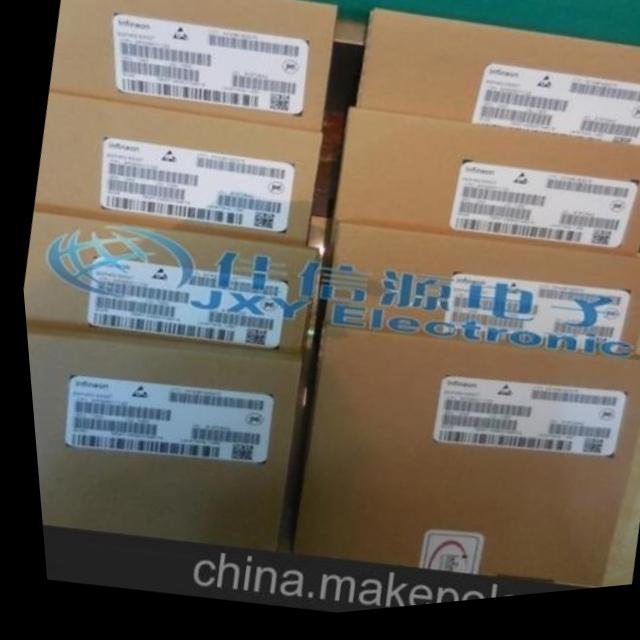box: (280, 334, 640, 597), (21, 326, 303, 557), (330, 114, 640, 267), (314, 228, 640, 369), (29, 93, 318, 252), (18, 214, 317, 358), (354, 15, 640, 158), (47, 0, 334, 136)
